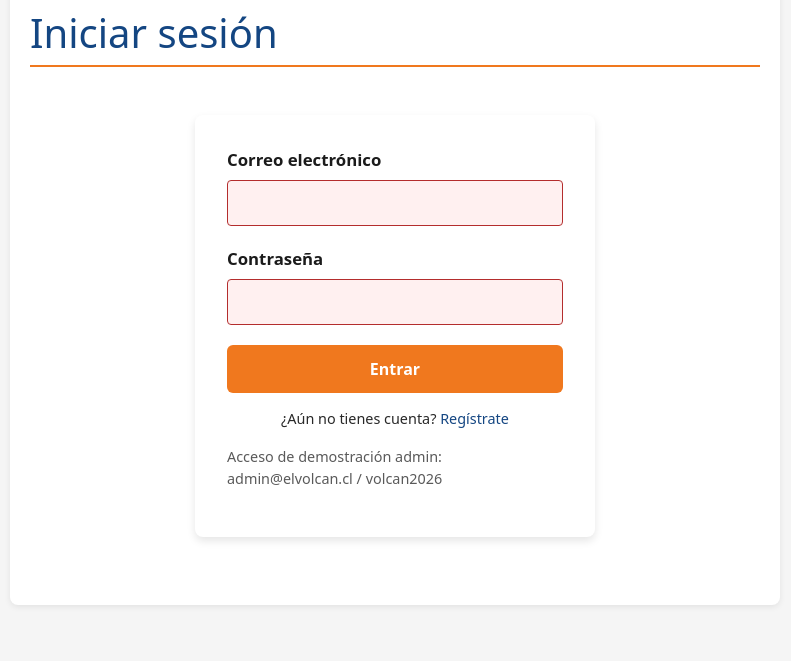
Test: rechaza credenciales incorrectas
Type "admin@elvolcan.cl" into the field labelled "Correo electrónico".
click(395, 203); type("admin@elvolcan.cl")  # box [227,180,563,226]
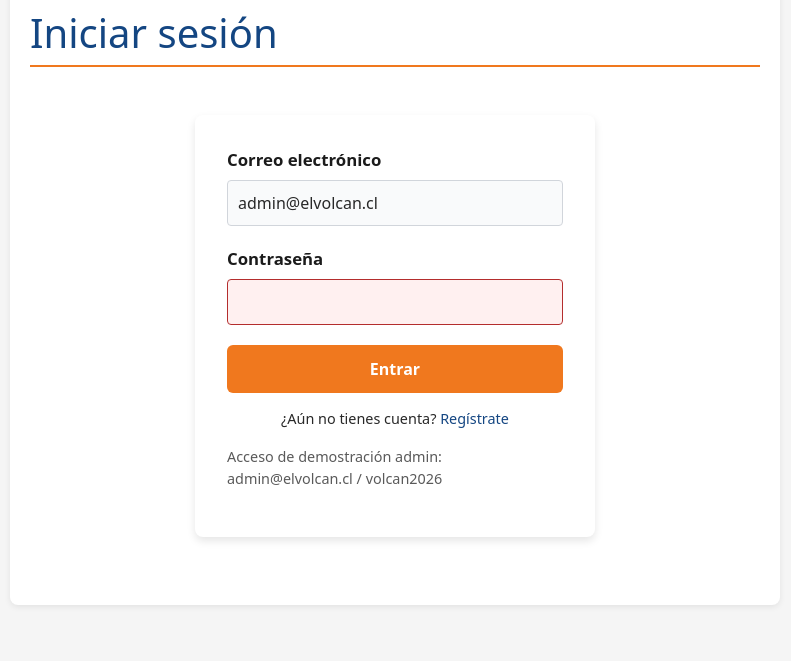
Type "incorrecta" into the password field labelled "Contraseña".
click(395, 302); type("incorrecta")  # box [227,279,563,325]
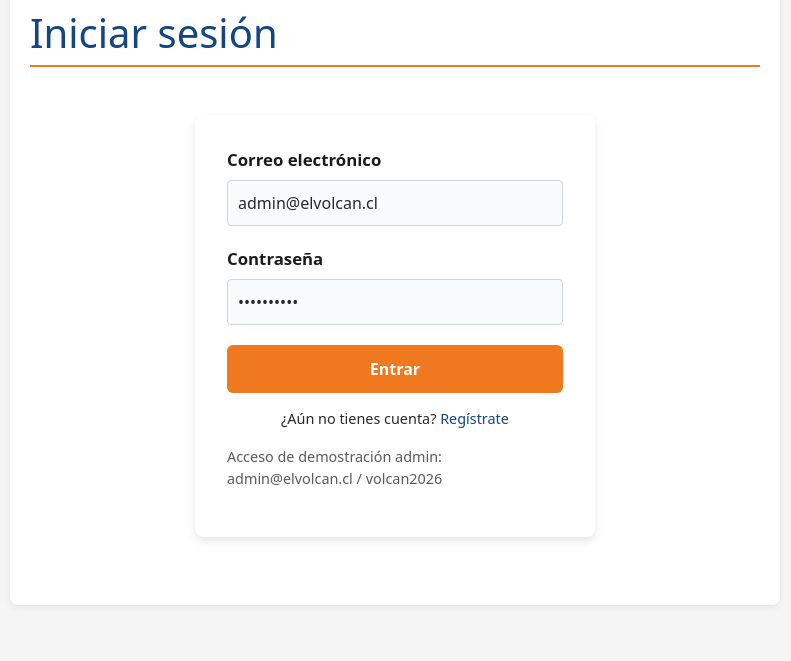
Click the button "Entrar".
click(395, 369)  # box [227,345,563,393]
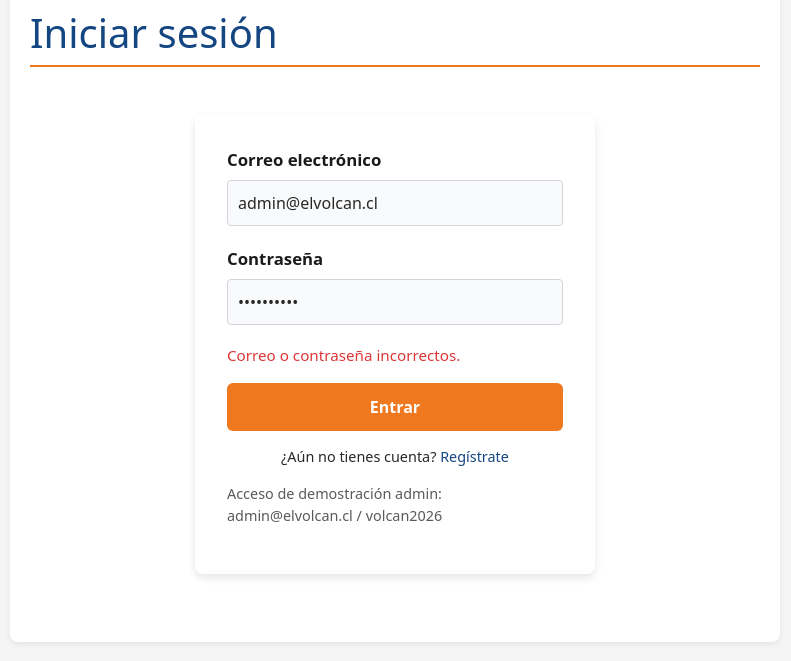
Result: the message reads "Correo o contraseña incorrectos." at [227,345,460,365]
